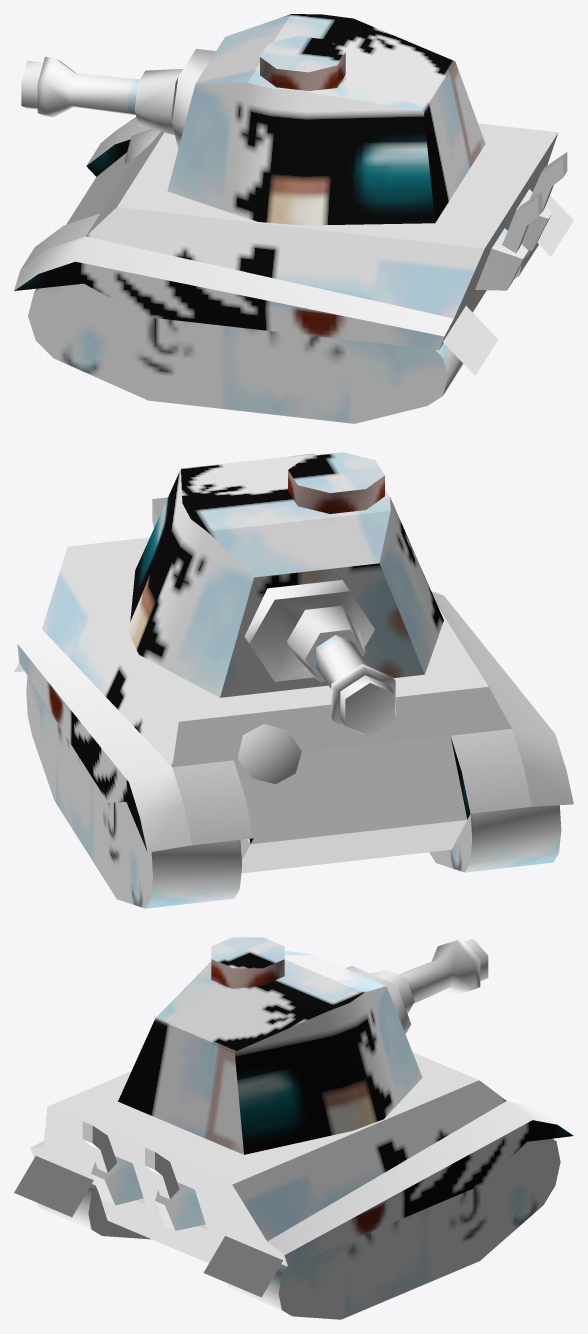
Rendered from static.ico.obj.
3 views of the same model, one above another, from view 1: azimuth 30°, elevation 25°; view 2: azimuth 150°, elevation 25°; view 3: azimuth 270°, elevation 25° (orthographic). The views are drawn at different scales.
Size of the model in its own units: 4.41 by 2.41 by 4.41.
